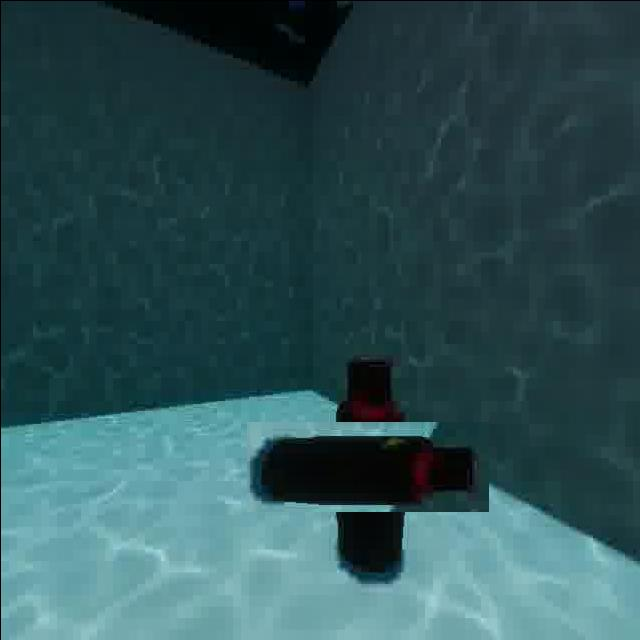Cylinder: (284, 382, 450, 548)
